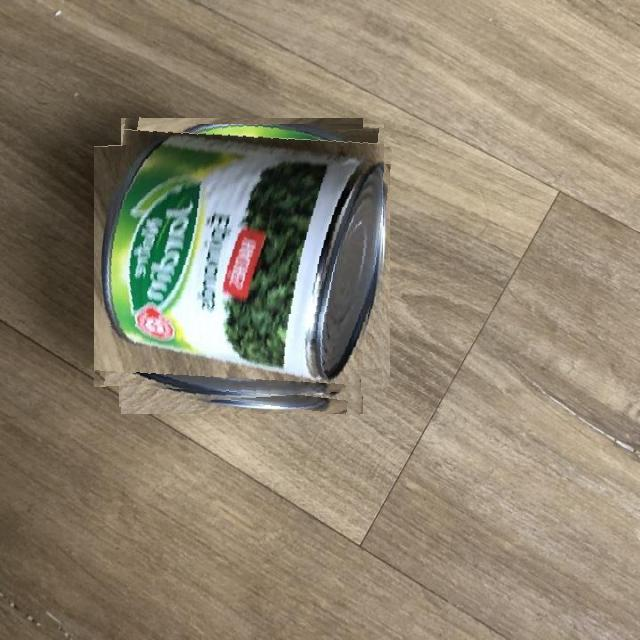recyclable: (100, 124, 384, 408)
